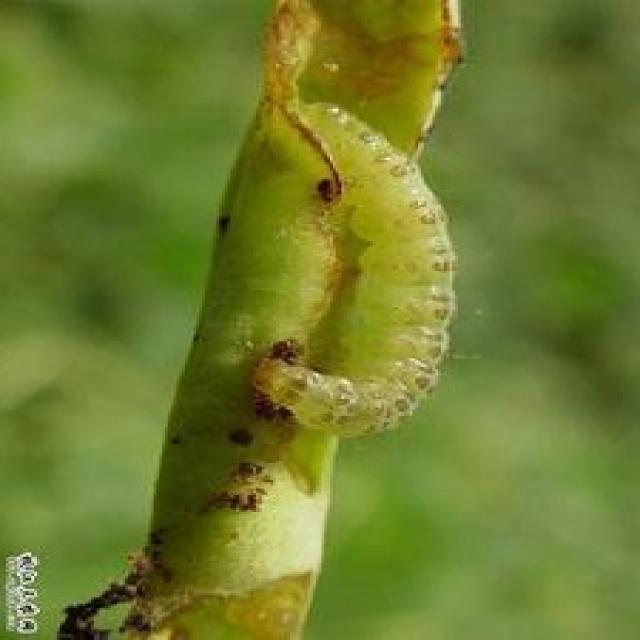peach borer: (239, 96, 463, 431)
